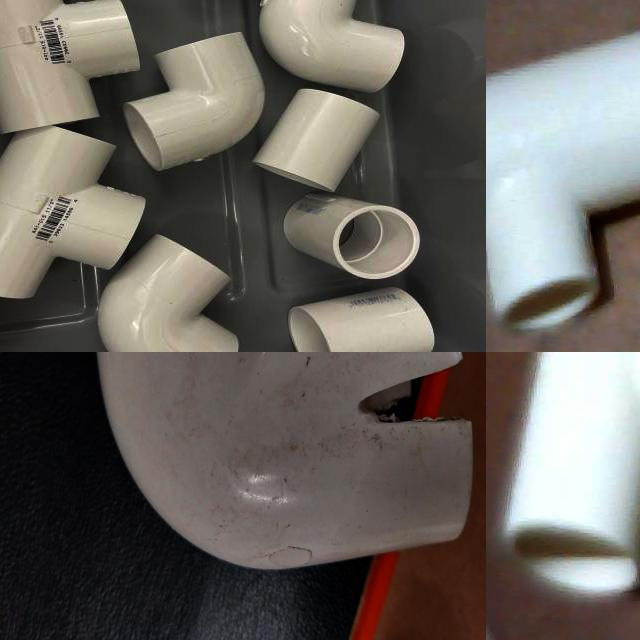Defective: (12, 565, 155, 598)
L Joint: (10, 352, 381, 640), (122, 33, 264, 174), (258, 0, 406, 94)
T Joint: (486, 30, 640, 336), (500, 352, 640, 603), (0, 131, 148, 302), (94, 237, 241, 352)
